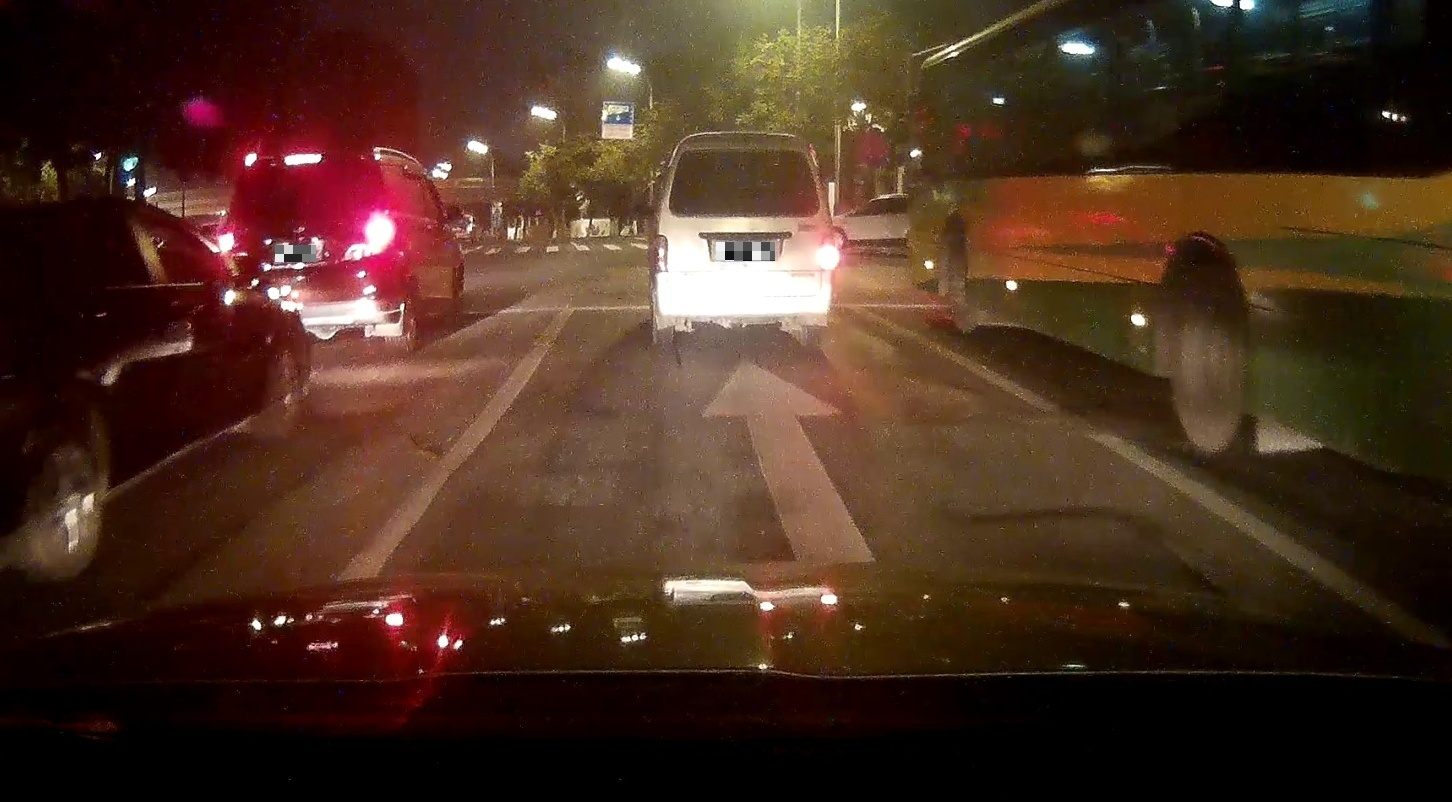L_light: (217, 226, 245, 254), (653, 235, 669, 274)
R_light: (364, 217, 397, 255), (822, 236, 841, 272)
T_light: (282, 154, 323, 165), (724, 149, 762, 158)
night-brake: (214, 149, 414, 354)
night-right: (653, 129, 840, 345)
plate_1: (275, 245, 316, 262)
plate_2: (716, 242, 775, 261)
